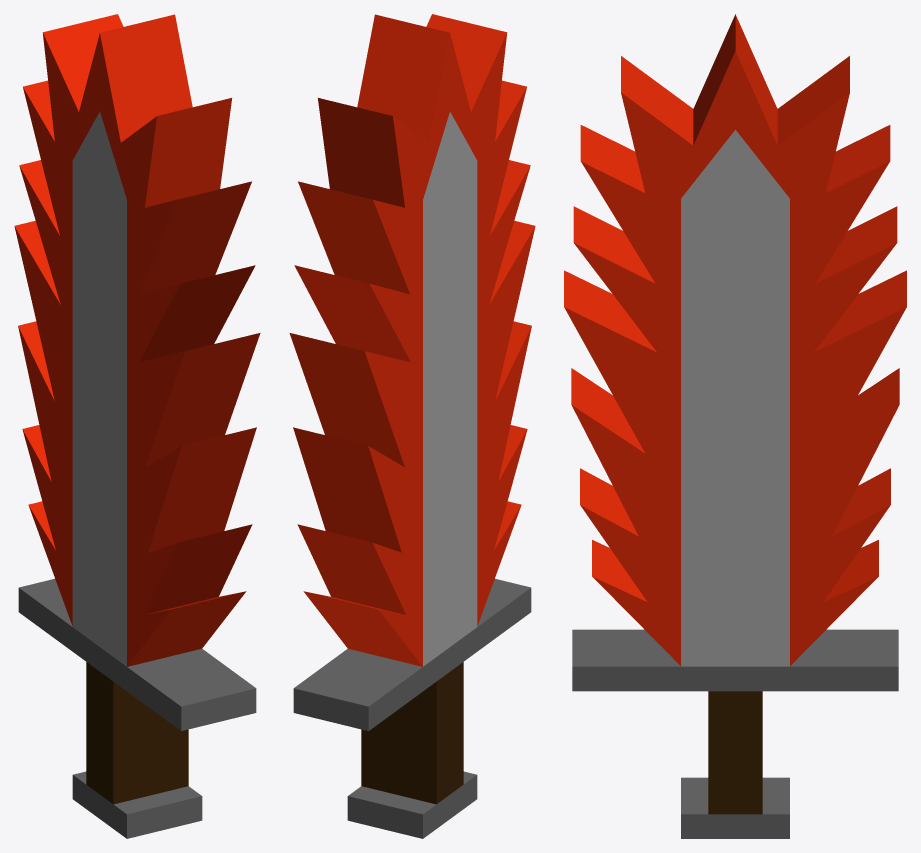
File: DamageUp.fbx
3 renders of one model, left to right at view 1: azimuth 30°, elevation 25°; view 2: azimuth 150°, elevation 25°; view 3: azimuth 270°, elevation 25°, orthographic.
Visible parts, largest first — view 1: Cube; view 2: Cube; view 3: Cube.
Part boxes in pixels (box(x1,y1,x2,y2)): Cube: box(14, 14, 260, 838); Cube: box(289, 14, 535, 838); Cube: box(564, 14, 906, 838).
Size of the model in its own units: 20 by 200 by 78.85.
